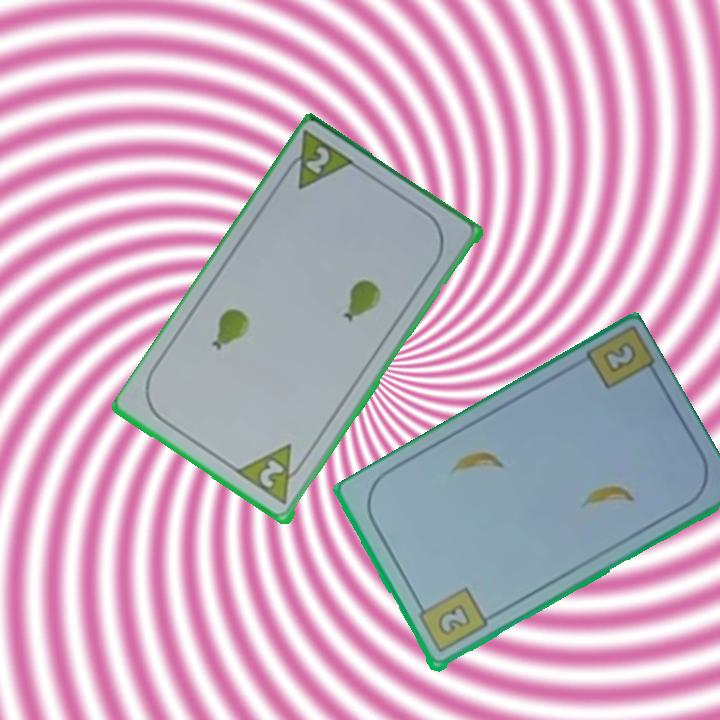2b: (413, 584, 490, 656), (602, 342, 636, 373)
2p: (278, 128, 360, 194), (256, 456, 288, 492)
